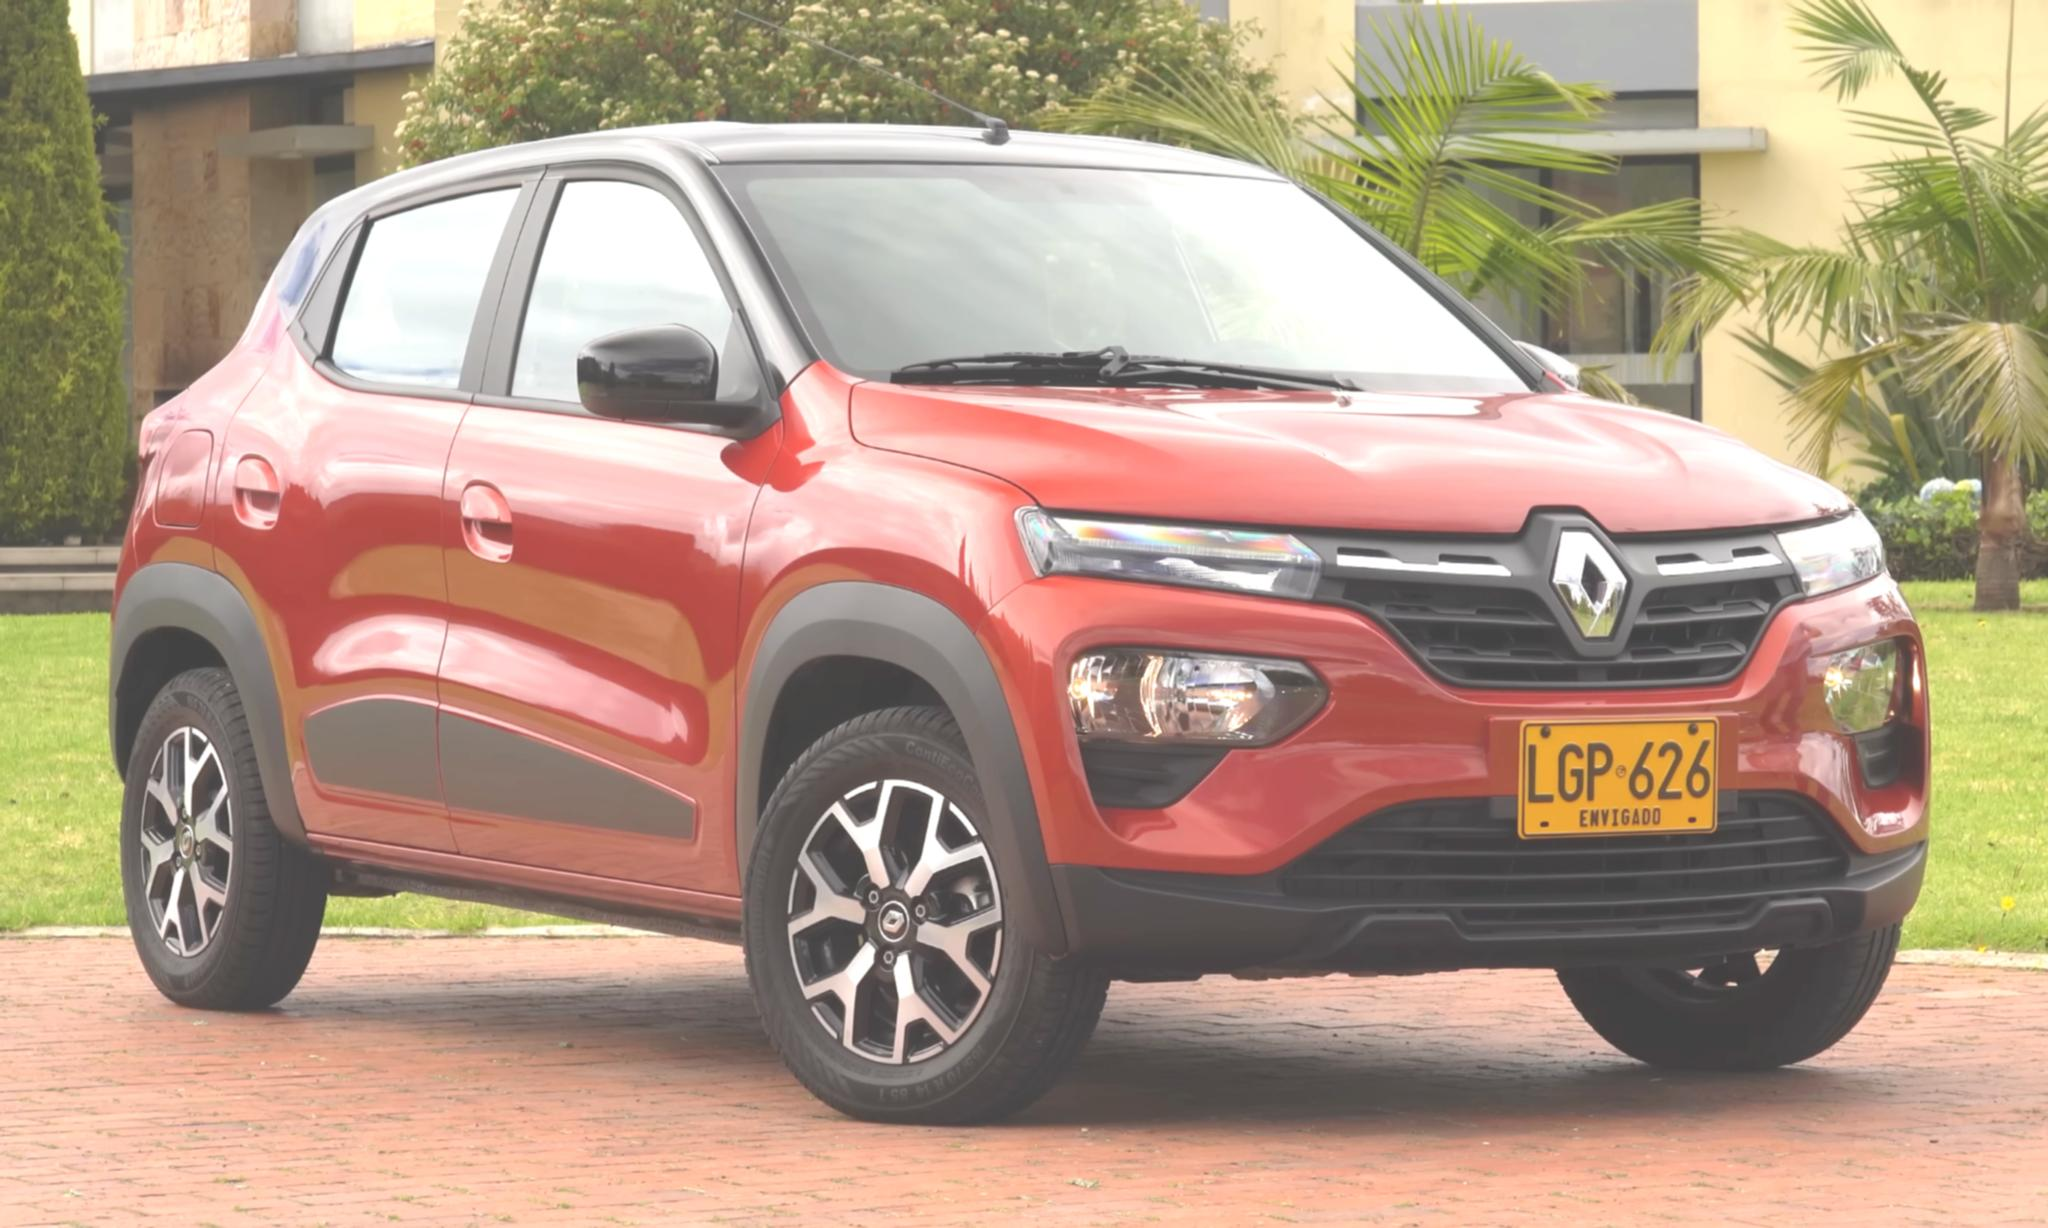Renault: (1541, 500, 1652, 659)
